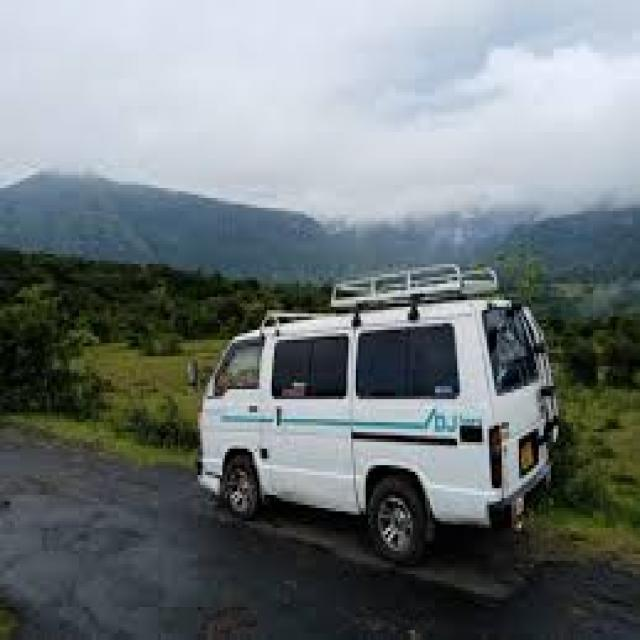van: (200, 300, 554, 561)
